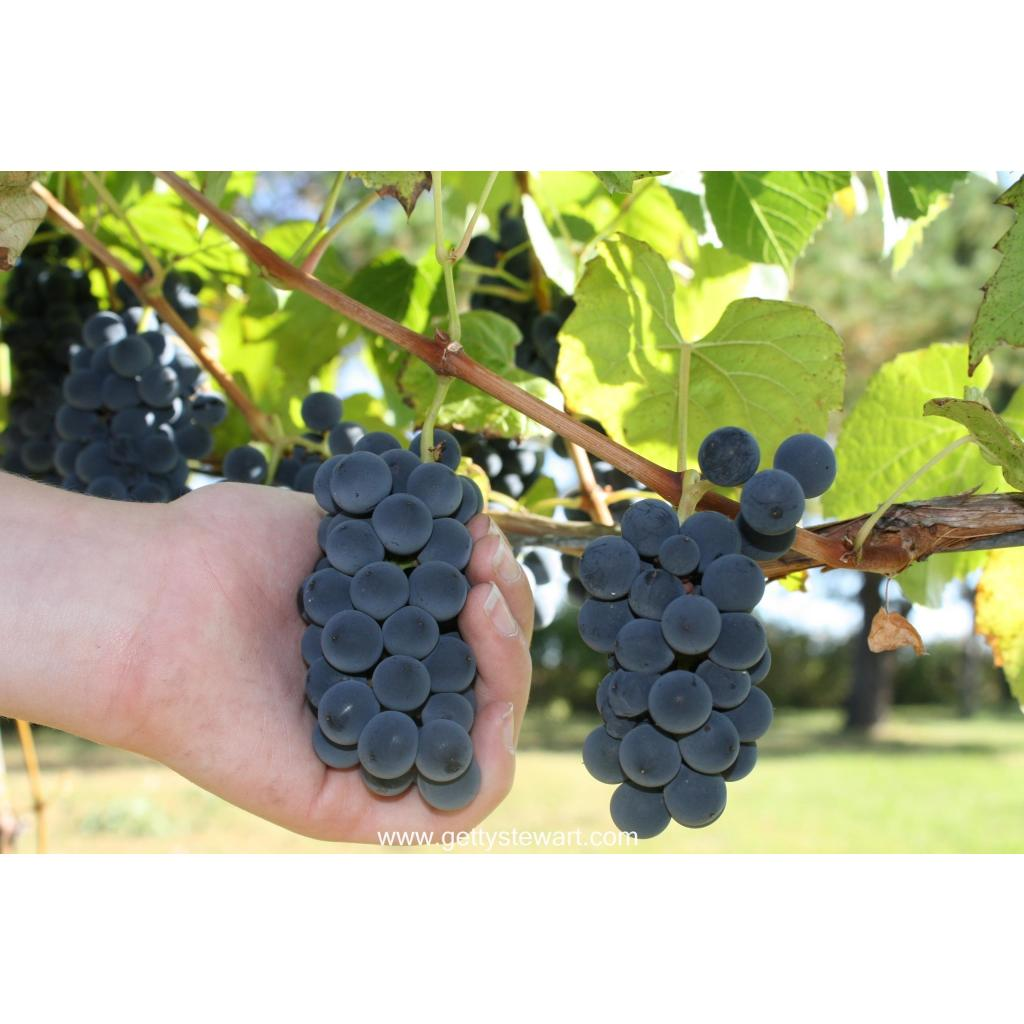grape: (574, 424, 836, 836), (578, 426, 834, 836), (281, 390, 482, 810), (299, 438, 480, 810), (302, 450, 480, 810), (0, 237, 227, 500), (48, 306, 226, 498)
